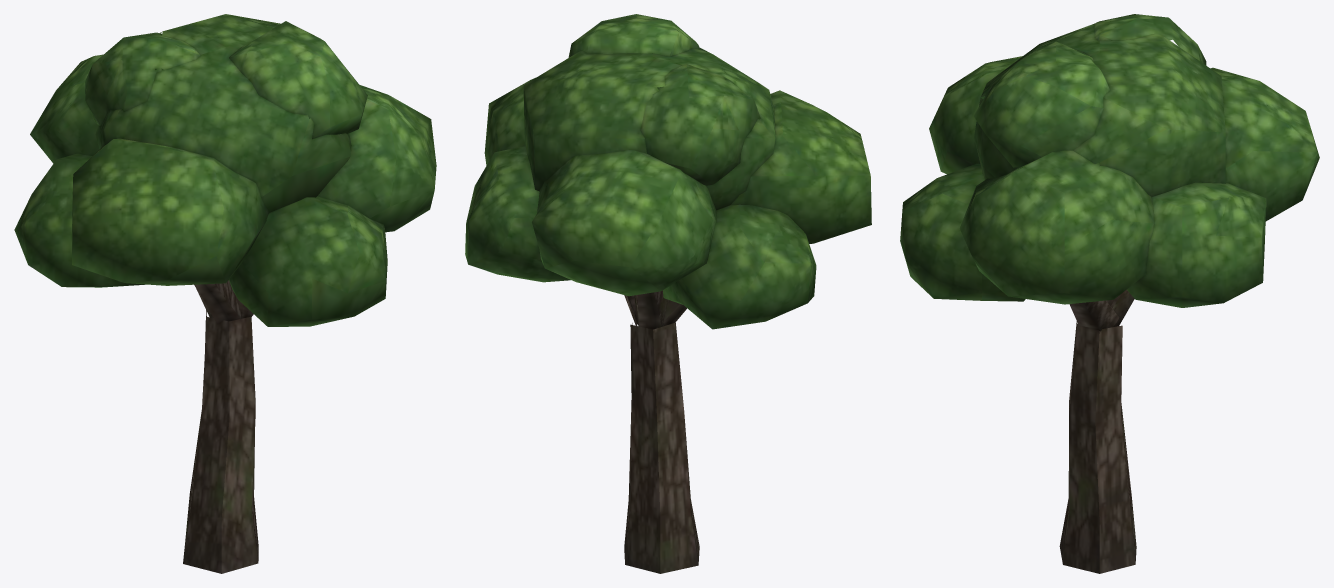
The model's file is oak.glb.
3 renders of one model, left to right at view 1: azimuth 30°, elevation 25°; view 2: azimuth 150°, elevation 25°; view 3: azimuth 270°, elevation 25°, orthographic.
Parts seen in each view (by area): view 1: root_mesh; view 2: root_mesh; view 3: root_mesh.
Part boxes in pixels (bbox=[...]): root_mesh: bbox=[14, 14, 436, 573]; root_mesh: bbox=[465, 14, 871, 573]; root_mesh: bbox=[900, 14, 1319, 573].
Size of the model in its own units: 0.9928 by 1.31 by 0.9632.
1 material, 1 textured.
